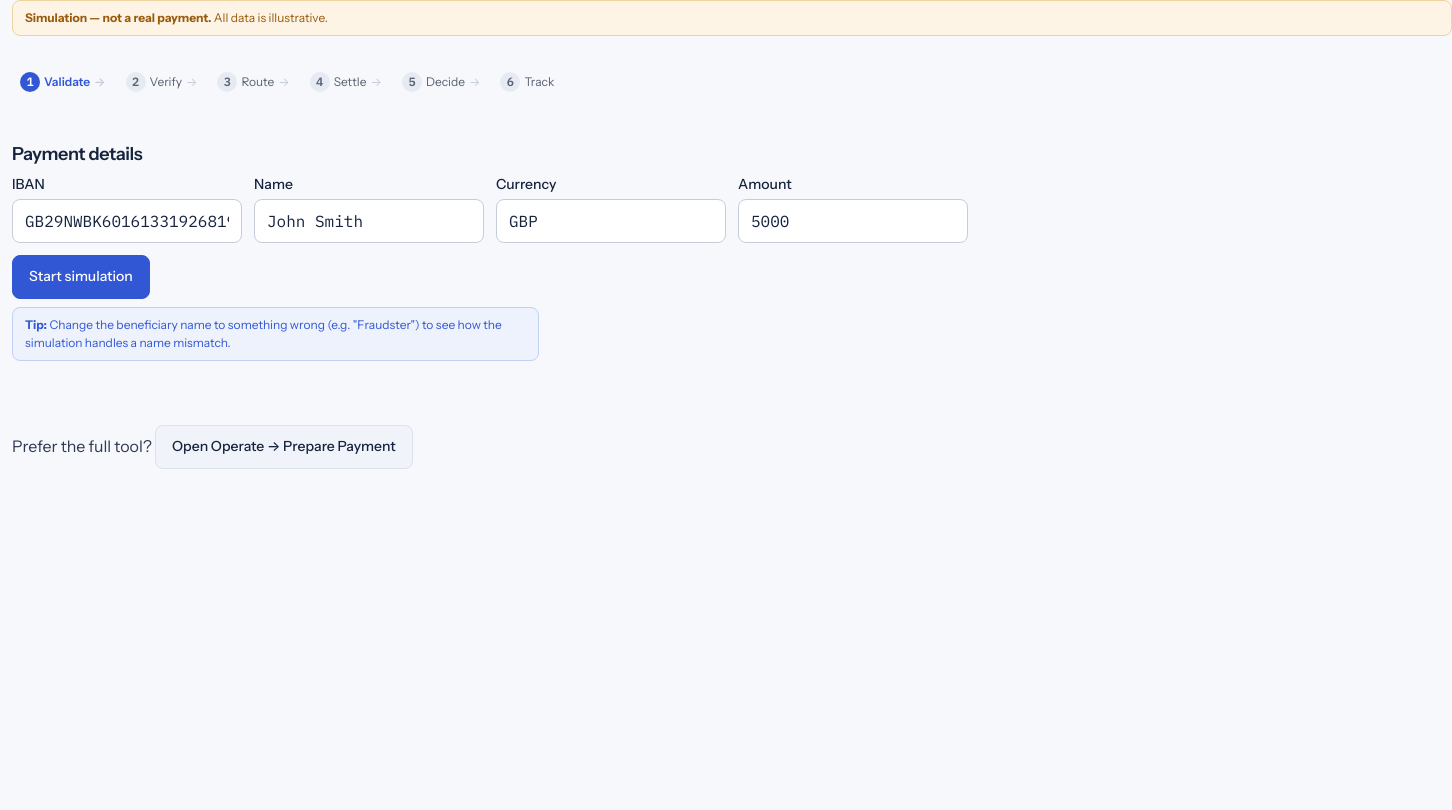
it: CapstoneContent › when the IBAN is valid but no BIC can be derived › stops after Validate and asks for the beneficiary BIC
The image size is (1452, 810).
Replace the text in the field labelled "IBAN" with "GB82WEST12345698765432" at {"x": 127, "y": 221}, box left=12, top=199, right=242, bottom=243
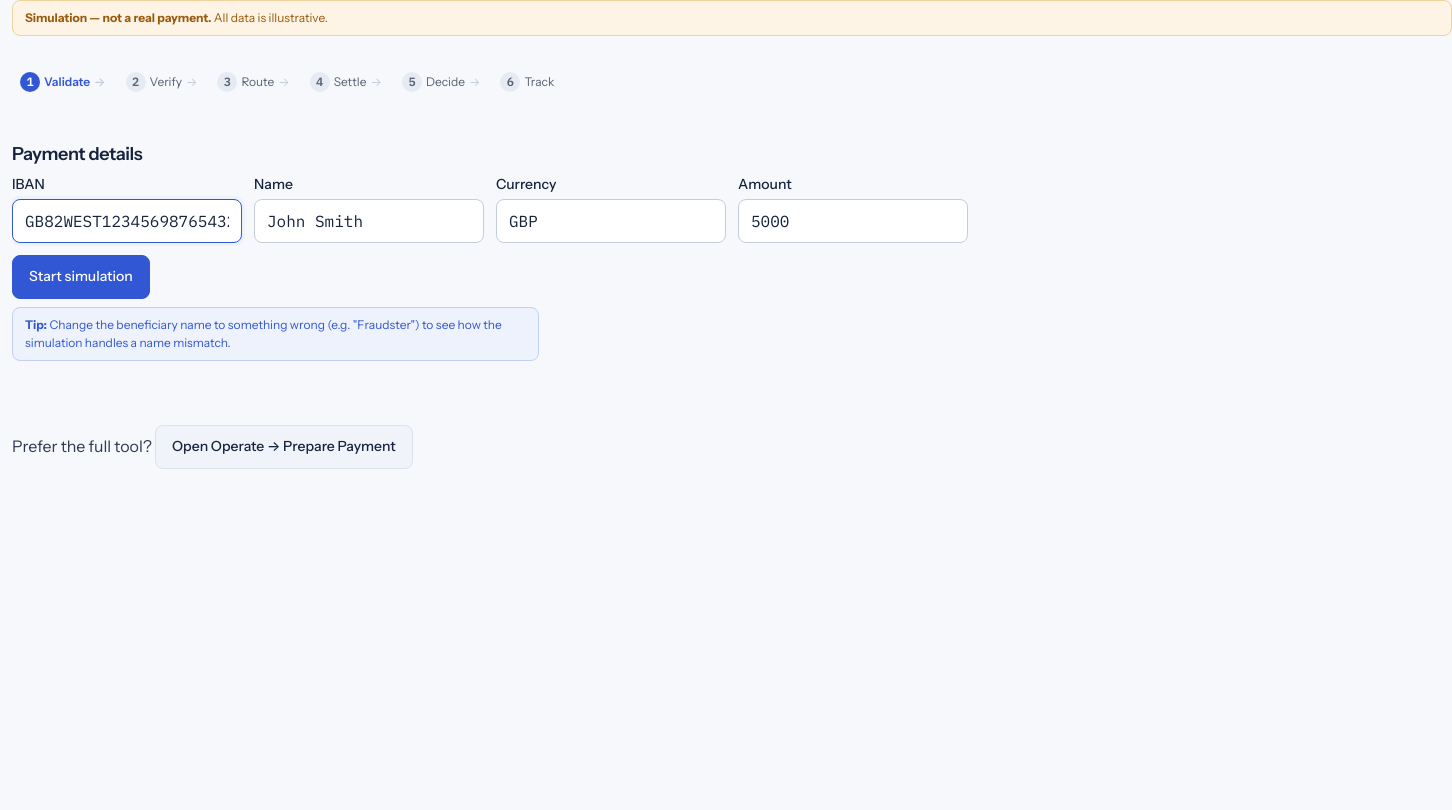
Click the button "Start simulation" at {"x": 81, "y": 277}, box left=12, top=255, right=150, bottom=299
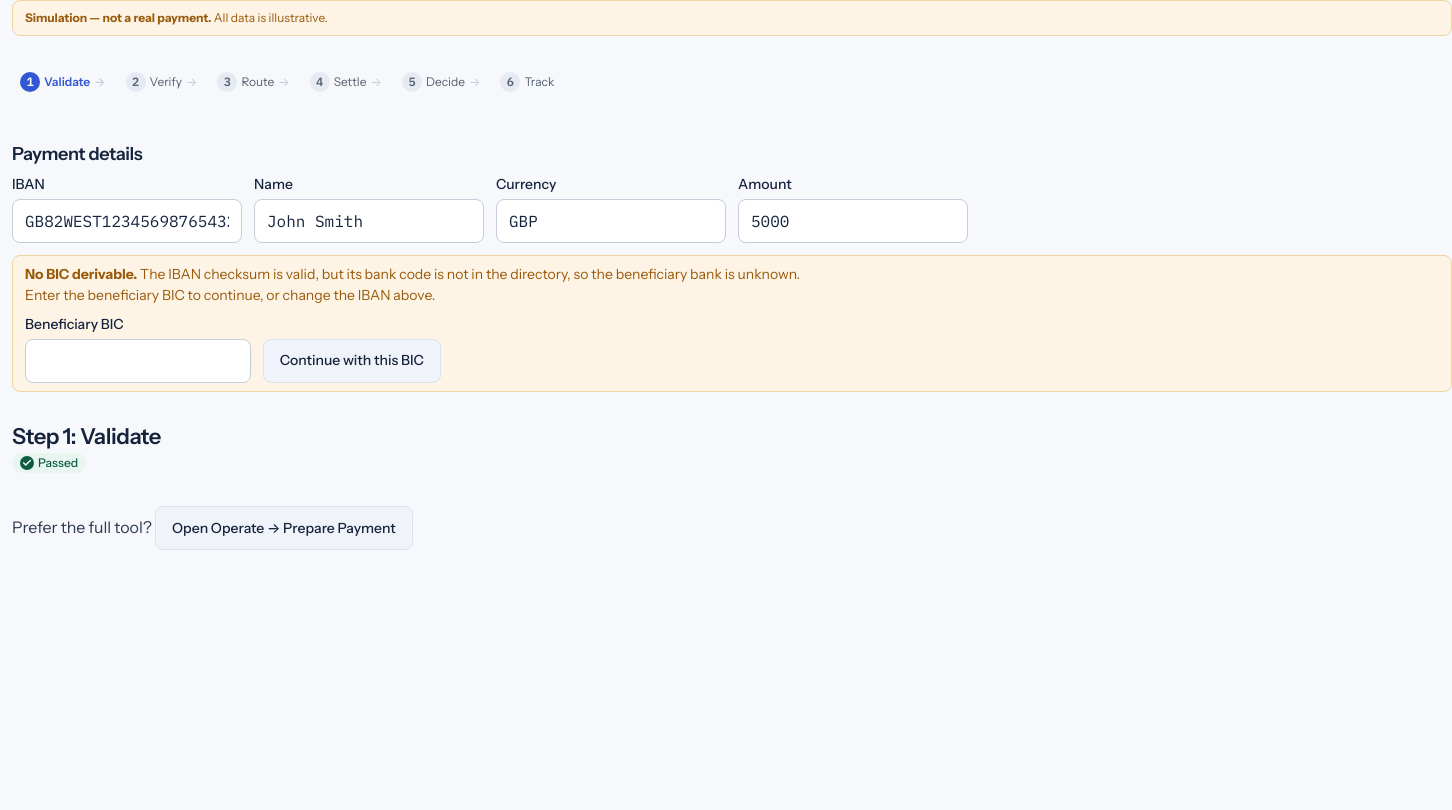
expect the text "No BIC derivable." is shown: met, box left=25, top=265, right=137, bottom=283
expect the field labelled "Beneficiary BIC" is shown: met, box left=25, top=339, right=251, bottom=383
